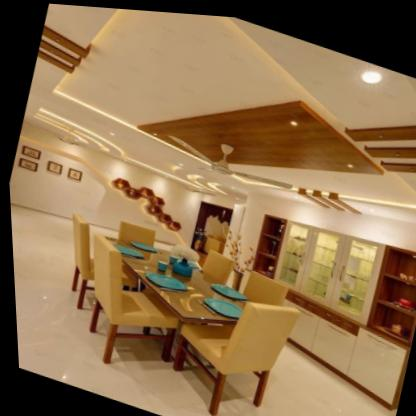Cupboard: (241, 212, 416, 402)
